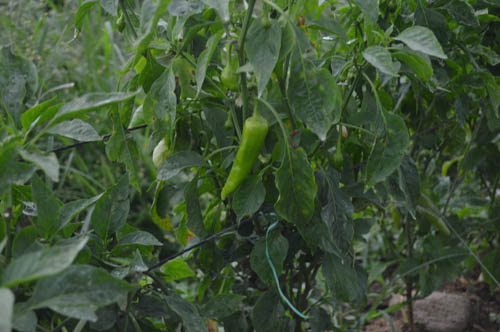ChiliPepper: (219, 112, 273, 208)
